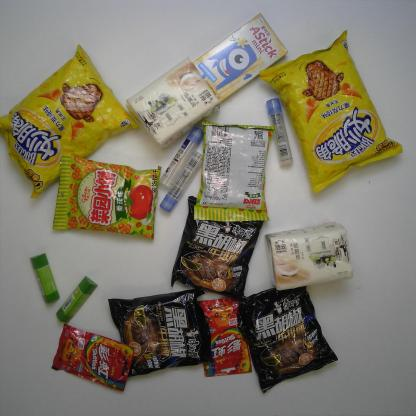Candy: (51, 322, 136, 391), (197, 287, 250, 381)
Dessert: (188, 13, 290, 106)
Instant Noodles: (233, 284, 340, 394), (168, 195, 274, 298), (106, 281, 215, 379)
Puffed Food: (257, 28, 404, 196), (1, 43, 141, 198), (50, 152, 164, 239), (191, 114, 278, 225)
Stationery: (160, 149, 208, 212), (162, 122, 204, 188), (56, 272, 102, 324), (29, 248, 60, 305), (267, 95, 292, 164)
Tissue: (127, 57, 222, 148), (265, 218, 357, 296)
